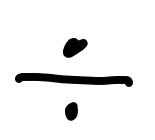div: (14, 35, 132, 122)
